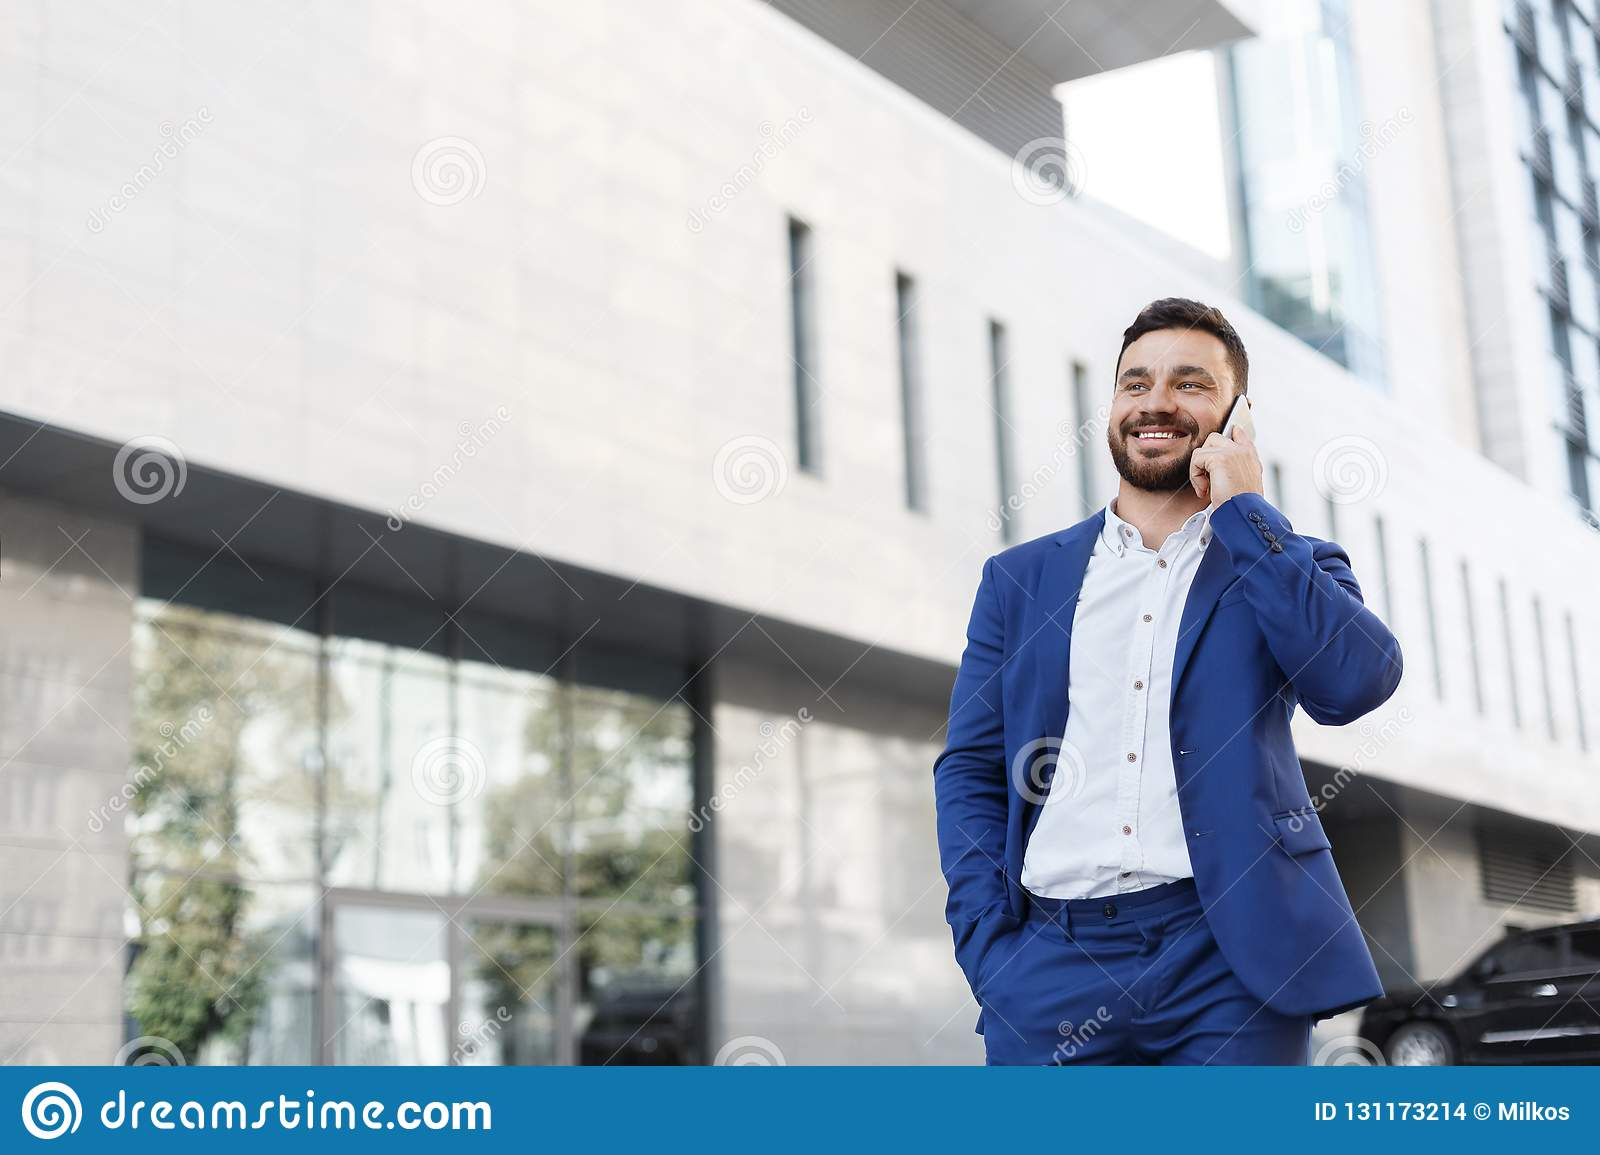phone: (1204, 389, 1258, 492)
talk: (1113, 364, 1265, 515)
